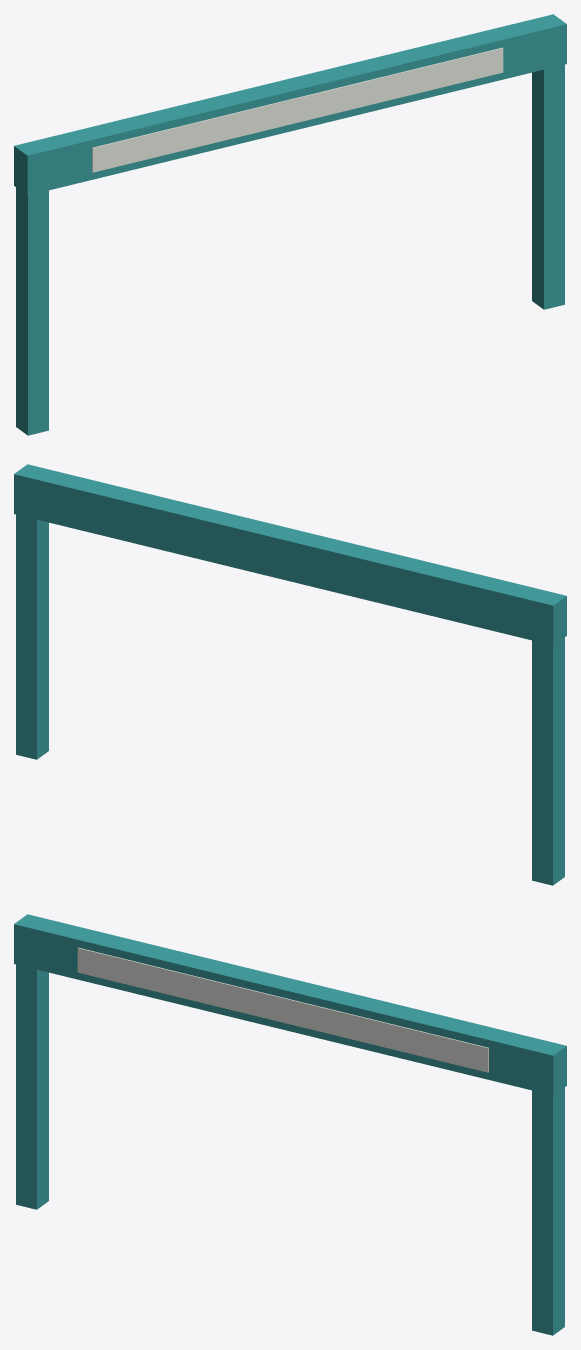
The model's file is TK_Gate_8m.fbx.
3 renders of one model, top to bottom at view 1: azimuth 30°, elevation 25°; view 2: azimuth 150°, elevation 25°; view 3: azimuth 330°, elevation 25°, orthographic.
Parts seen in each view (by area): view 1: GateHeader, HeaderInset, GatePillar, GatePillar.001; view 2: GateHeader, GatePillar, GatePillar.001; view 3: GateHeader, HeaderInset, GatePillar.001, GatePillar.
Boxes of the visible parts, box(x1,y1,x2,y2) form: GateHeader: box(14, 14, 566, 195); HeaderInset: box(92, 47, 503, 172); GatePillar: box(16, 187, 48, 435); GatePillar.001: box(532, 64, 564, 309); GateHeader: box(14, 464, 566, 645); GatePillar: box(532, 637, 564, 885); GatePillar.001: box(16, 514, 48, 759); GateHeader: box(14, 914, 566, 1095); HeaderInset: box(77, 947, 488, 1072); GatePillar.001: box(532, 1087, 564, 1335); GatePillar: box(16, 964, 48, 1209).
Bounding box in the file's own units: 9.2 × 4.58 × 0.42.
